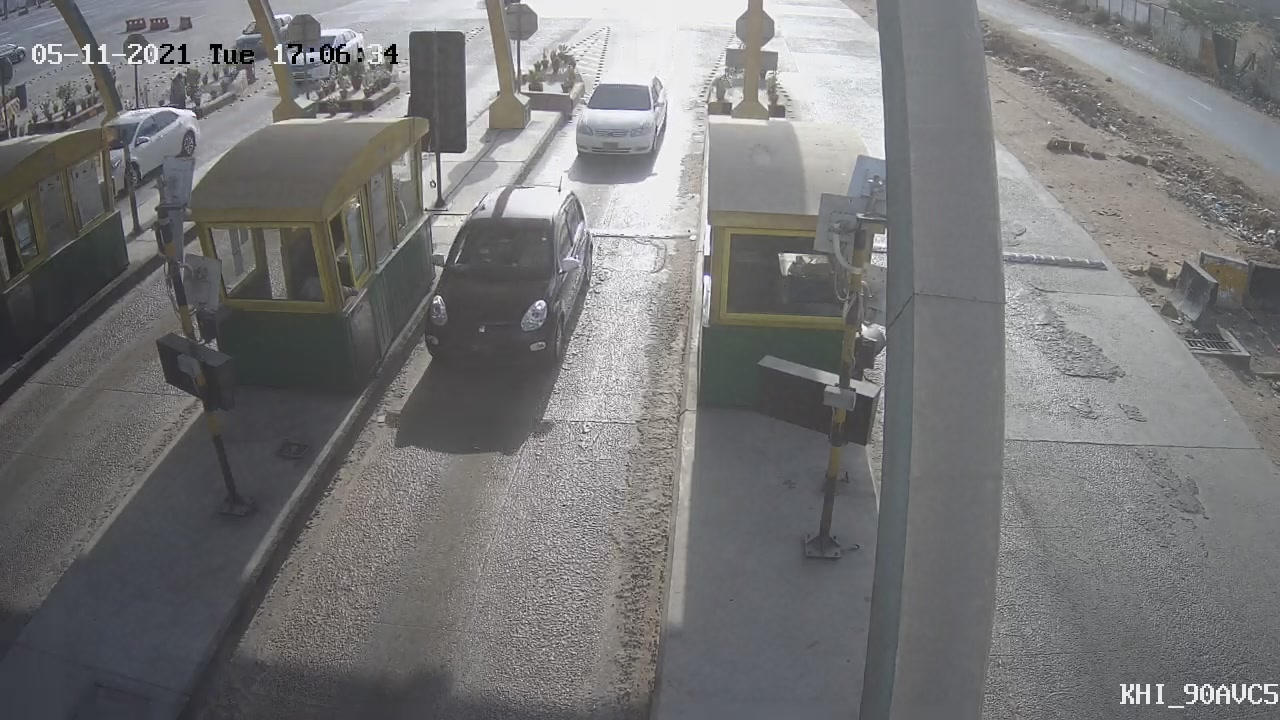F1: (395, 170, 613, 381), (555, 59, 687, 179)
